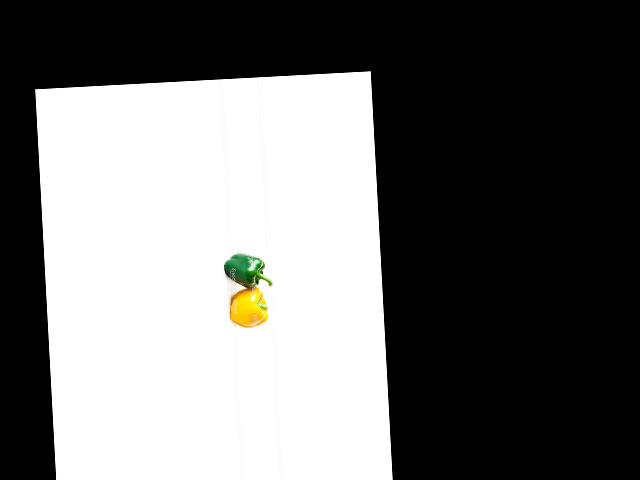bell_pepper: (217, 248, 268, 289)
